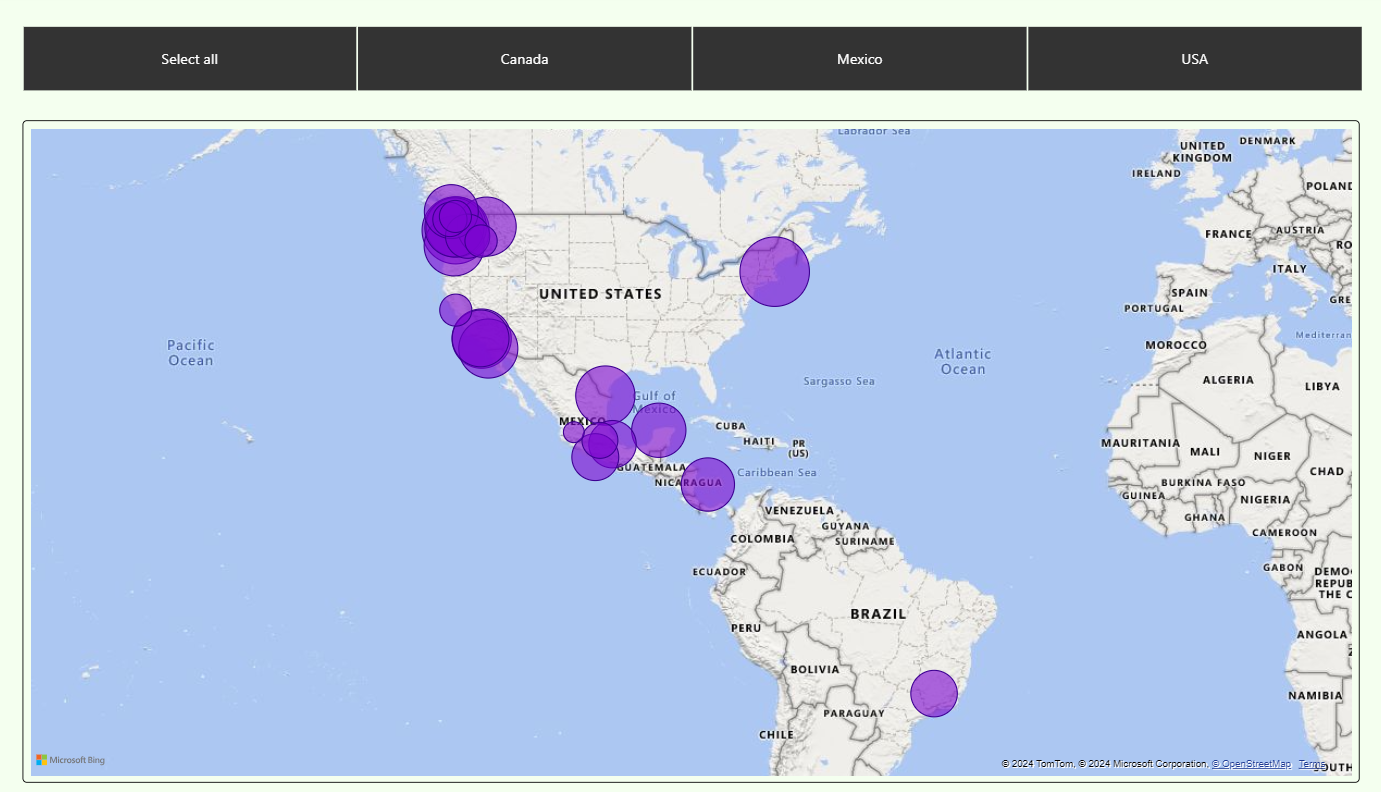

This screenshot's page, from the dashboard's own definition file:
{"tool":"powerbi","page":{"name":"Map View","canvas":[1280,720],"ordinal":4},"visuals":[{"type":"map","fields":{"Category":["Stores.store_city"],"Size":["Transaction_Data.Total Transactions"]},"box":[25.2,93.5,1228.5,608.8],"z":0},{"type":"slicer","fields":{"Values":["Stores.store_country"]},"box":[0,0,1279.6,72.4],"z":1000}]}

Visuals, with their boxes in screenshot pixels (x1, y1, x2, y2), scaled from the page's 1280x720 canvas onto the 1381x792 screenshot:
map - Stores.store_city x Transaction_Data.Total Transactions: (27, 103, 1353, 773)
slicer - Stores.store_country: (0, 0, 1380, 80)
